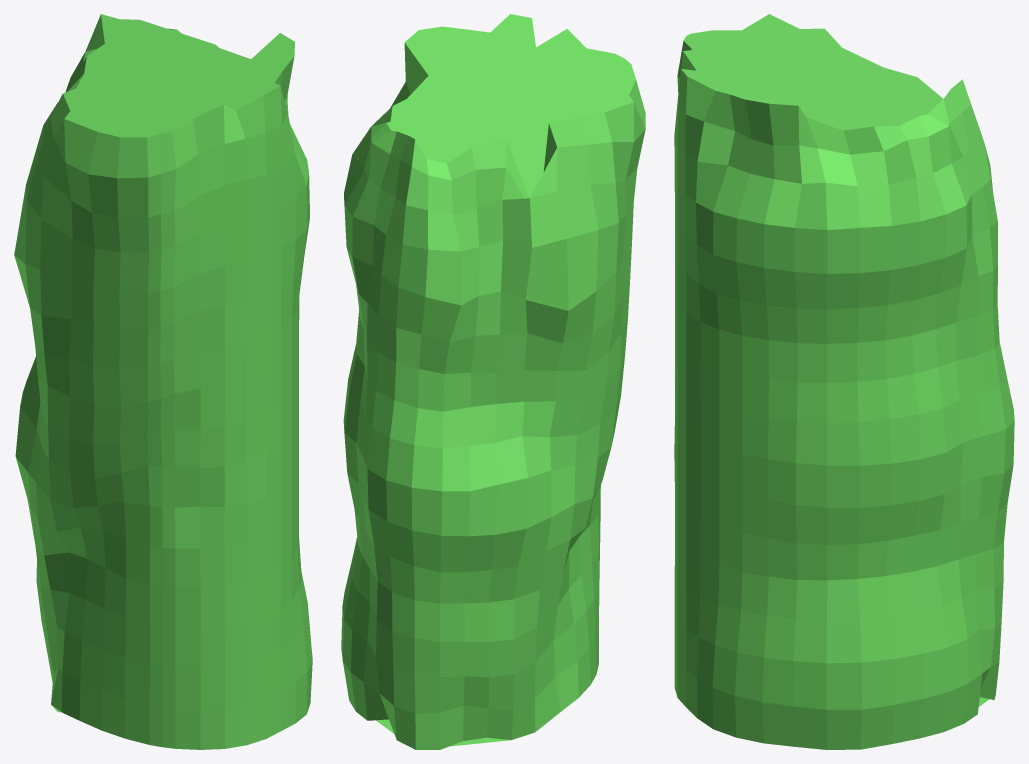
The model's file is Building2.fbx.
3 views of the same model, side by side, from view 1: azimuth 30°, elevation 25°; view 2: azimuth 150°, elevation 25°; view 3: azimuth 270°, elevation 25° (orthographic). The views are drawn at different scales.
Parts seen in each view (by area): view 1: Cylinder; view 2: Cylinder; view 3: Cylinder.
Part boxes in pixels (x1=…): Cylinder: x1=14, y1=14, x2=312, y2=749; Cylinder: x1=341, y1=14, x2=645, y2=749; Cylinder: x1=674, y1=14, x2=1014, y2=749.
Size of the model in its own units: 422 by 1031 by 485.
